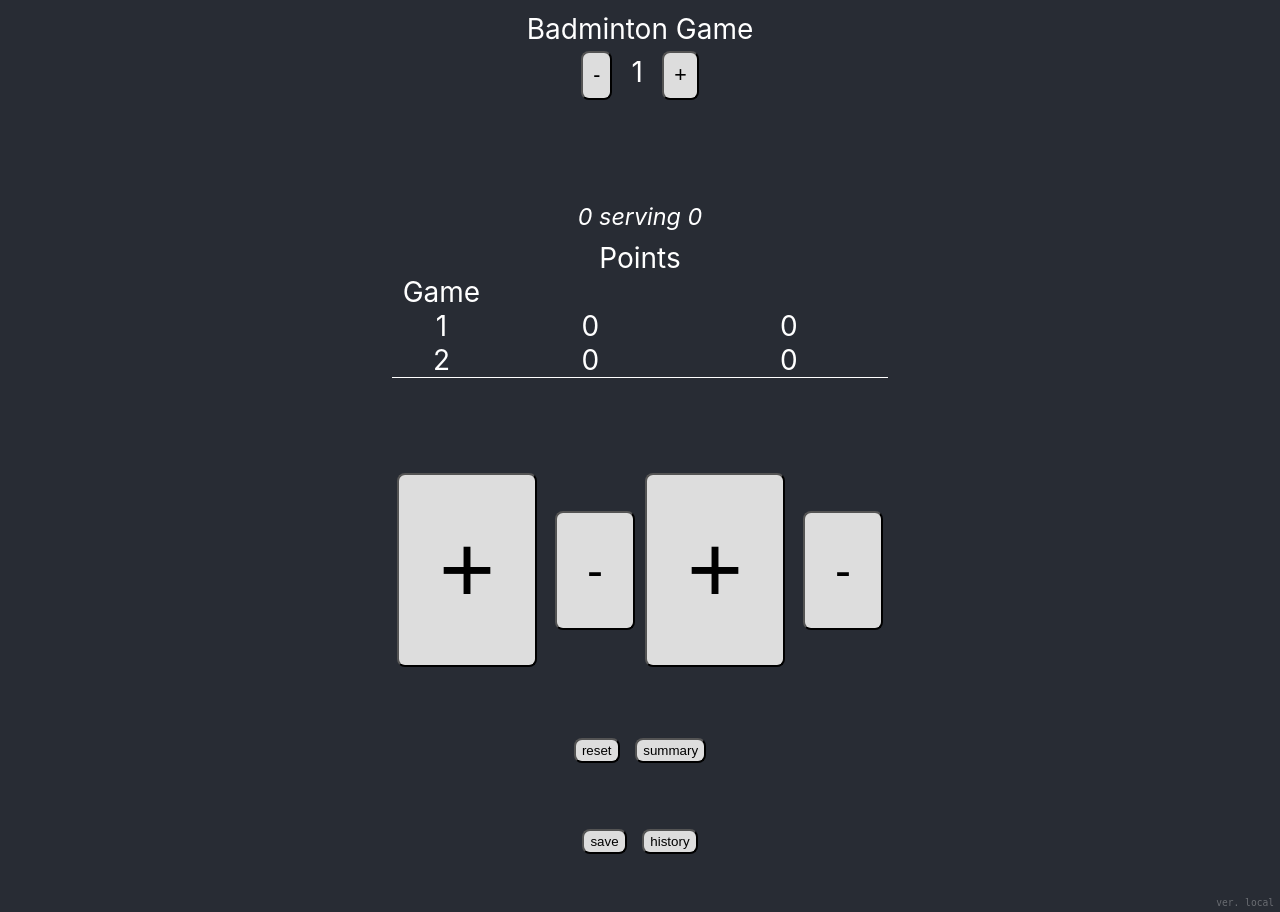
Test: moves birdie around counters › matches correct shot counter
Click the 2nd button "+": (467, 570) [397,473,537,667]
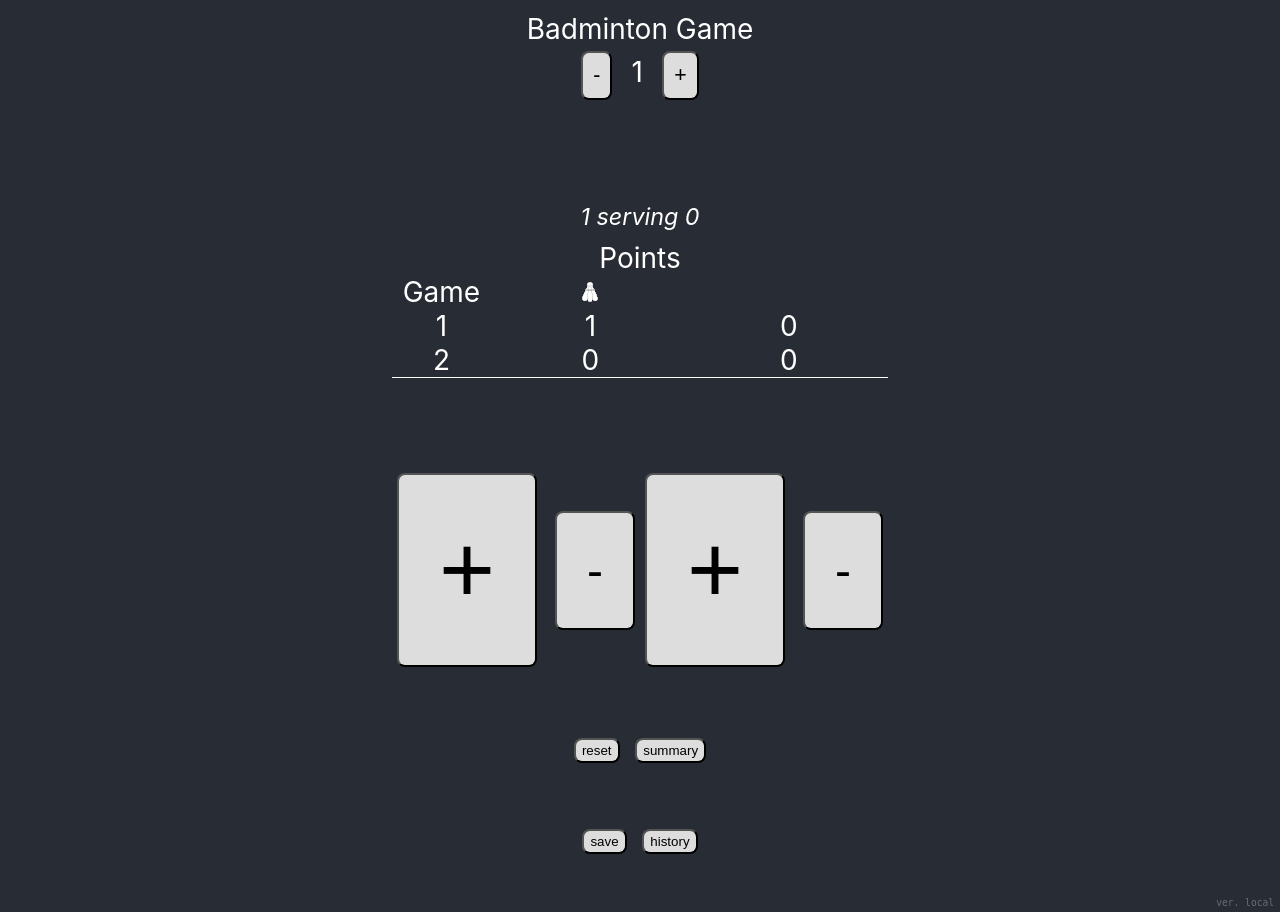
Check: the picture named "X" is shown, box [582,282,598,302]
